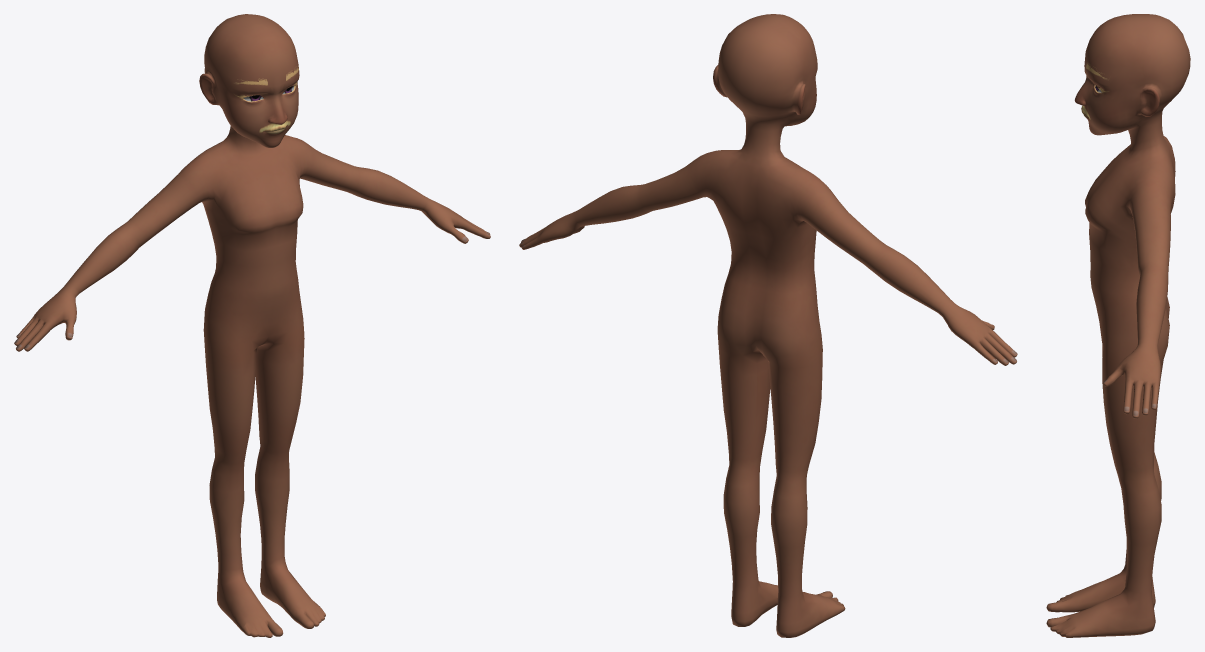
Rendered from frame_0058.glb.
3 renders of one model, left to right at view 1: azimuth 30°, elevation 25°; view 2: azimuth 150°, elevation 25°; view 3: azimuth 270°, elevation 25°, orthographic. The views are drawn at different scales.
Parts seen in each view (by area): view 1: frame_0058_head_geo; view 2: frame_0058_head_geo; view 3: frame_0058_head_geo.
Boxes of the visible parts, x1,y1,x2,y2 form: frame_0058_head_geo: (14, 14, 490, 637); frame_0058_head_geo: (519, 14, 1017, 637); frame_0058_head_geo: (1046, 14, 1190, 637).
Bounding box in the file's own units: 1.28 × 1.5 × 0.3253.
Materials: 3 (3 with a texture image).
